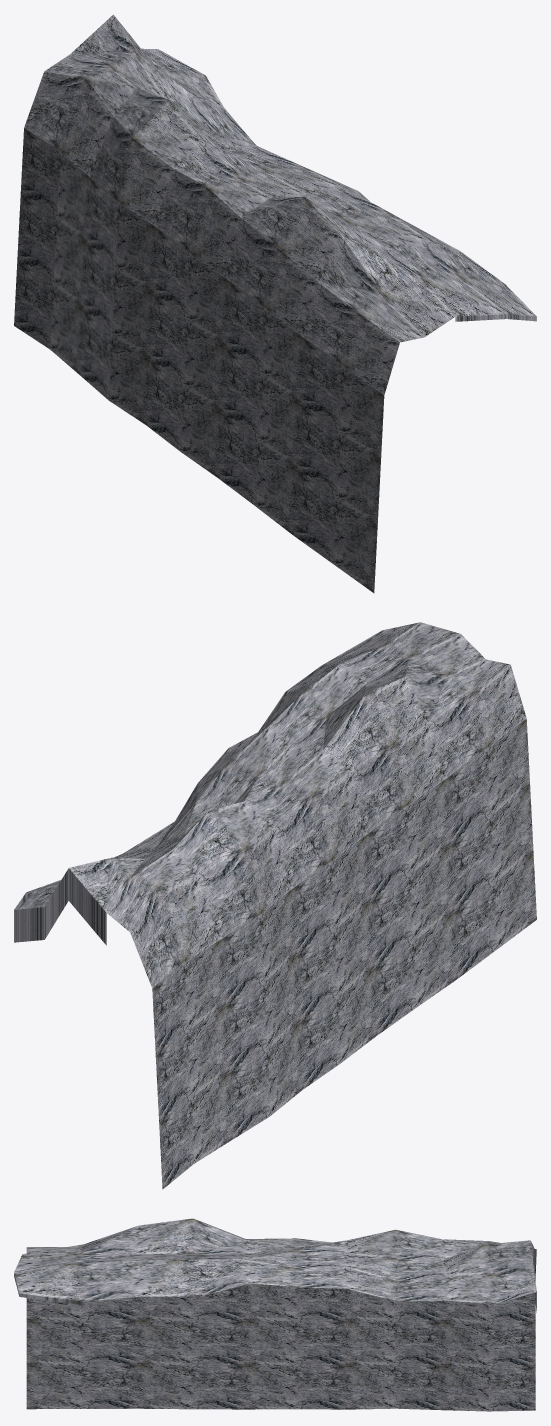
Rendered from vgnorthcoast03b.obj.
3 views of the same model, one above another, from view 1: azimuth 30°, elevation 25°; view 2: azimuth 150°, elevation 25°; view 3: azimuth 270°, elevation 25° (orthographic). The views are drawn at different scales.
Parts seen in each view (by area): view 1: vgnorthcoast03b; view 2: vgnorthcoast03b; view 3: vgnorthcoast03b.
Boxes of the visible parts, bbox=[...] form: vgnorthcoast03b: bbox=[14, 14, 536, 593]; vgnorthcoast03b: bbox=[14, 622, 536, 1189]; vgnorthcoast03b: bbox=[14, 1218, 536, 1411].
Bounding box in the file's own units: 64.82 × 106 × 243.
Materials: 2 (2 with a texture image).
